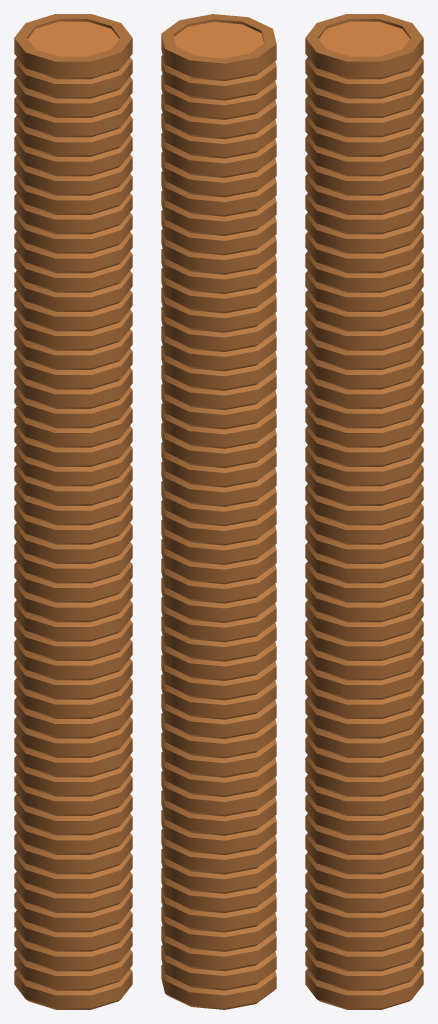
The model's file is Coin_Tower_15.fbx.
3 views of the same model, side by side, from view 1: azimuth 90°, elevation 25°; view 2: azimuth 150°, elevation 25°; view 3: azimuth 270°, elevation 25° (orthographic).
Parts seen in each view (by area): view 1: Coin_Tower_15; view 2: Coin_Tower_15; view 3: Coin_Tower_15.
Part boxes in pixels (x1,y1,x2,y2): Coin_Tower_15: (14,14,132,1009); Coin_Tower_15: (161,14,276,1009); Coin_Tower_15: (305,14,423,1009).
Size of the model in its own units: 0.0413 by 0.3852 by 0.0435.
